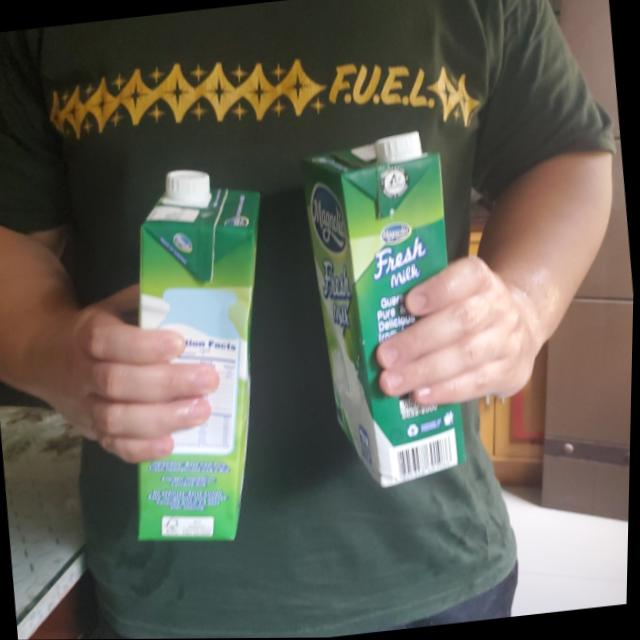milk: (99, 158, 301, 559), (296, 125, 489, 491)
